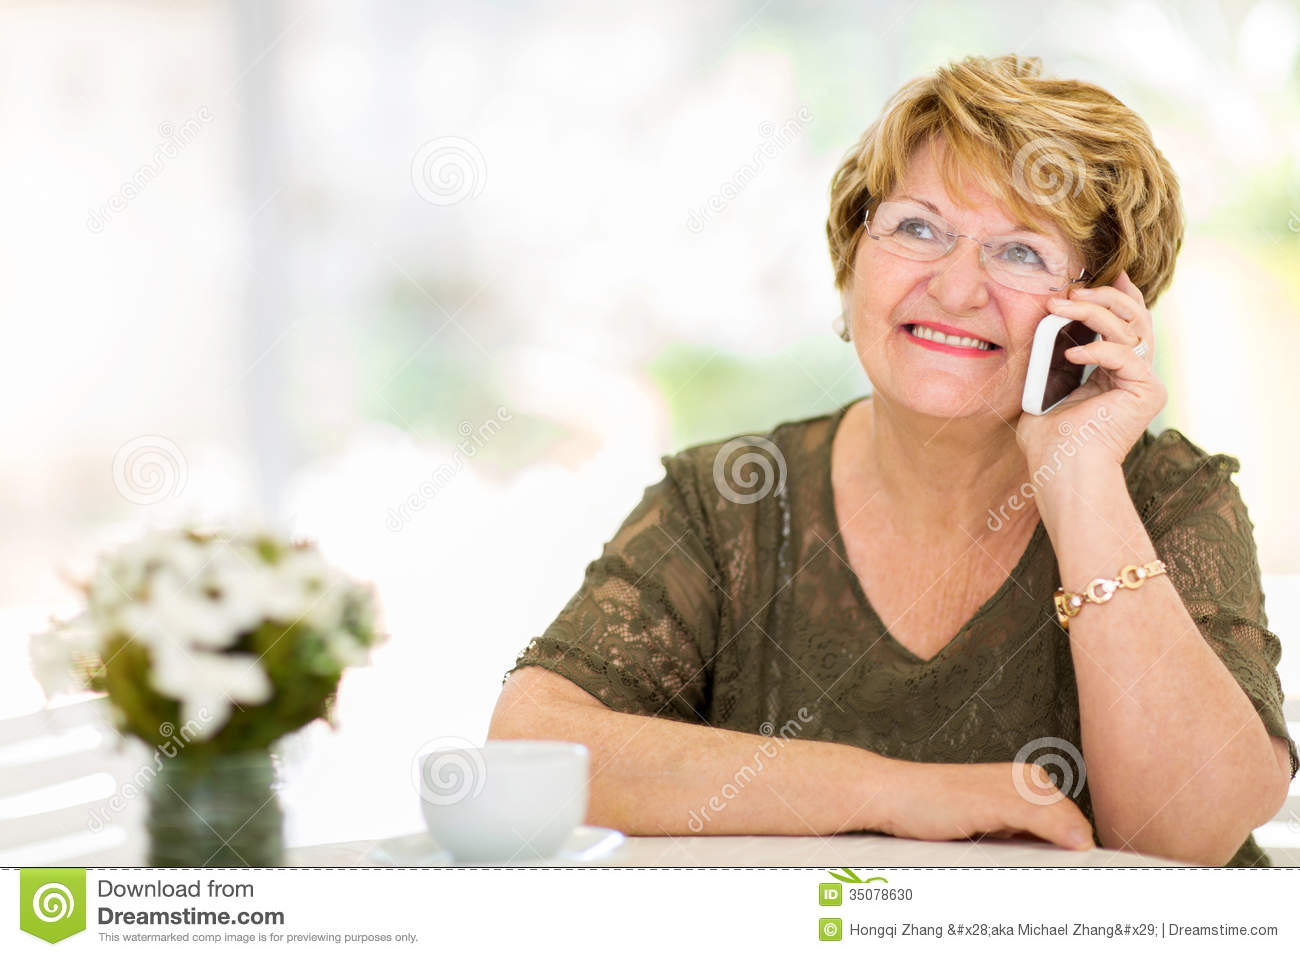phone: (1015, 277, 1167, 417)
talk: (845, 194, 1186, 459)
